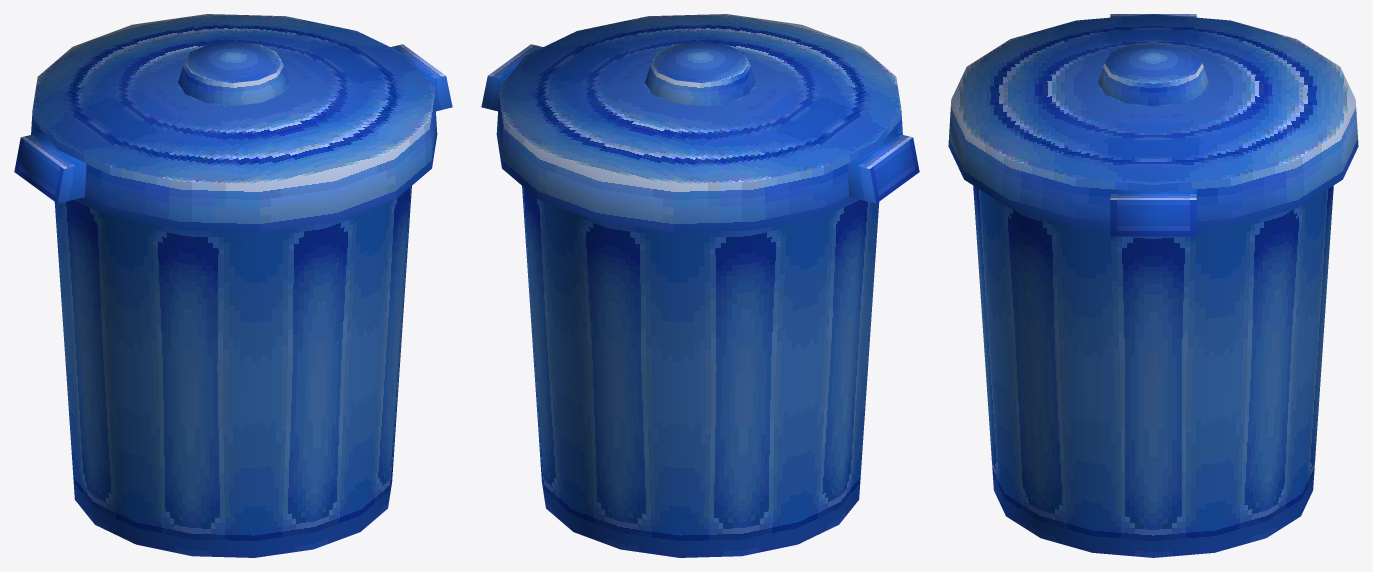
Rendered from int_oth_trash_b.dae.
3 views of the same model, side by side, from view 1: azimuth 30°, elevation 25°; view 2: azimuth 150°, elevation 25°; view 3: azimuth 270°, elevation 25° (orthographic).
Parts seen in each view (by area): view 1: int_oth_trash_b; view 2: int_oth_trash_b; view 3: int_oth_trash_b.
Part boxes in pixels (bbox=[...]): int_oth_trash_b: bbox=[14, 14, 452, 557]; int_oth_trash_b: bbox=[481, 14, 919, 557]; int_oth_trash_b: bbox=[948, 14, 1358, 557].
Size of the model in its own units: 29.7 by 31.27 by 26.76.
1 material, 1 textured.
